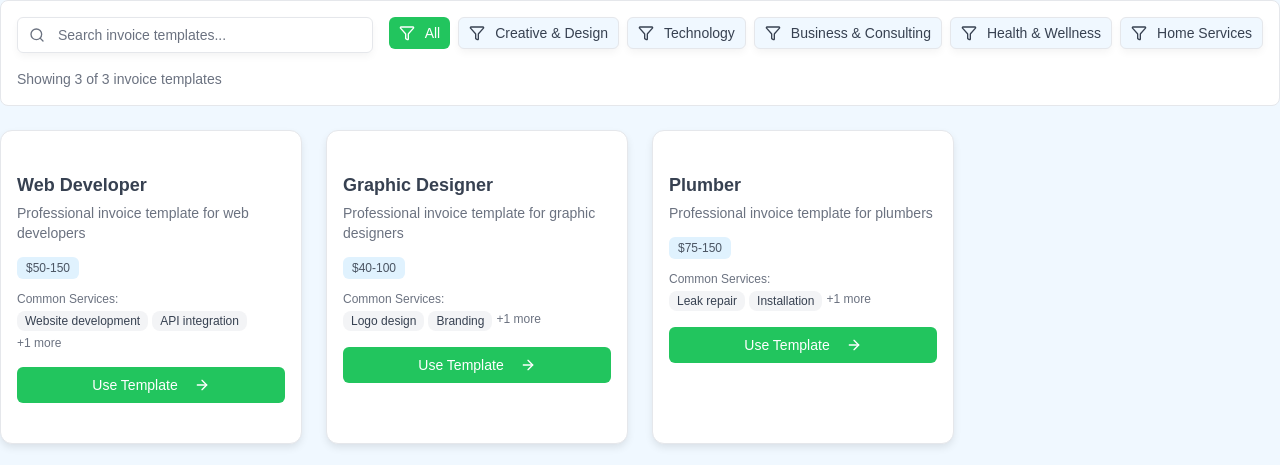
Test case: TemplateGrid › Category Filtering › should filter by Technology category
Click the button "Technology" at (686, 33), box [627,17,746,49]
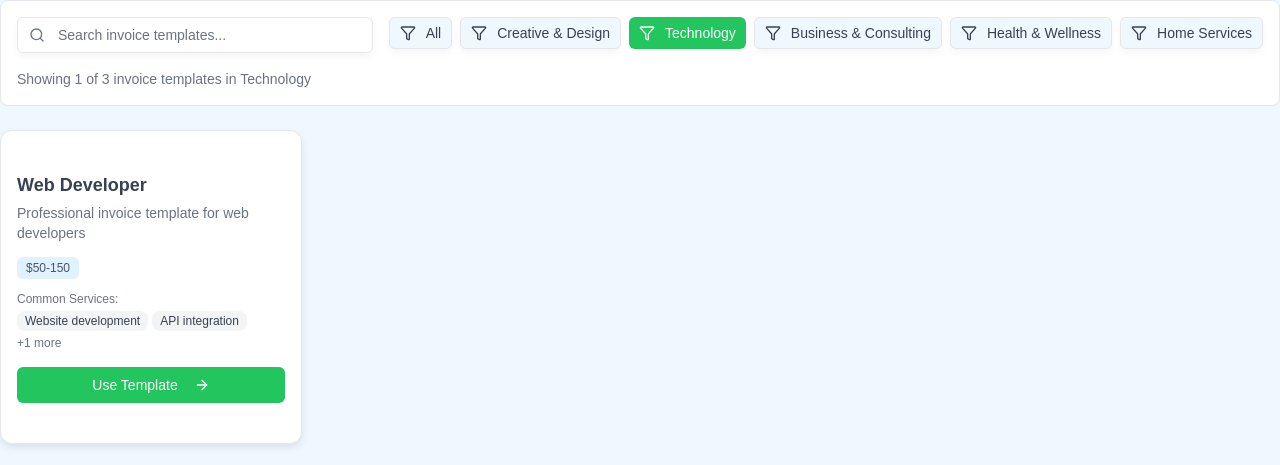
Expected: the heading "Web Developer" is shown, [17,175,147,195]
Result: the heading "Graphic Designer" is gone
Result: the heading "Plumber" is gone
